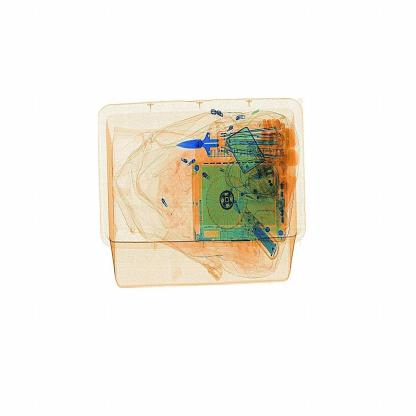gun: (176, 117, 235, 173)
